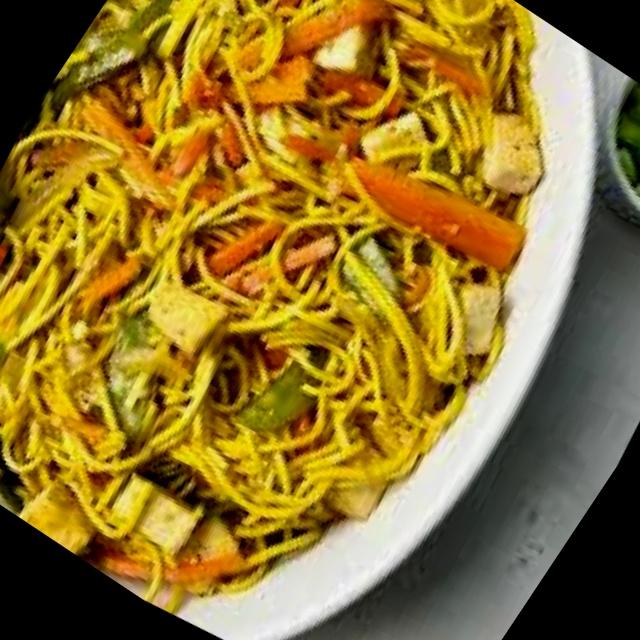pancit bihon: (0, 0, 532, 595)
